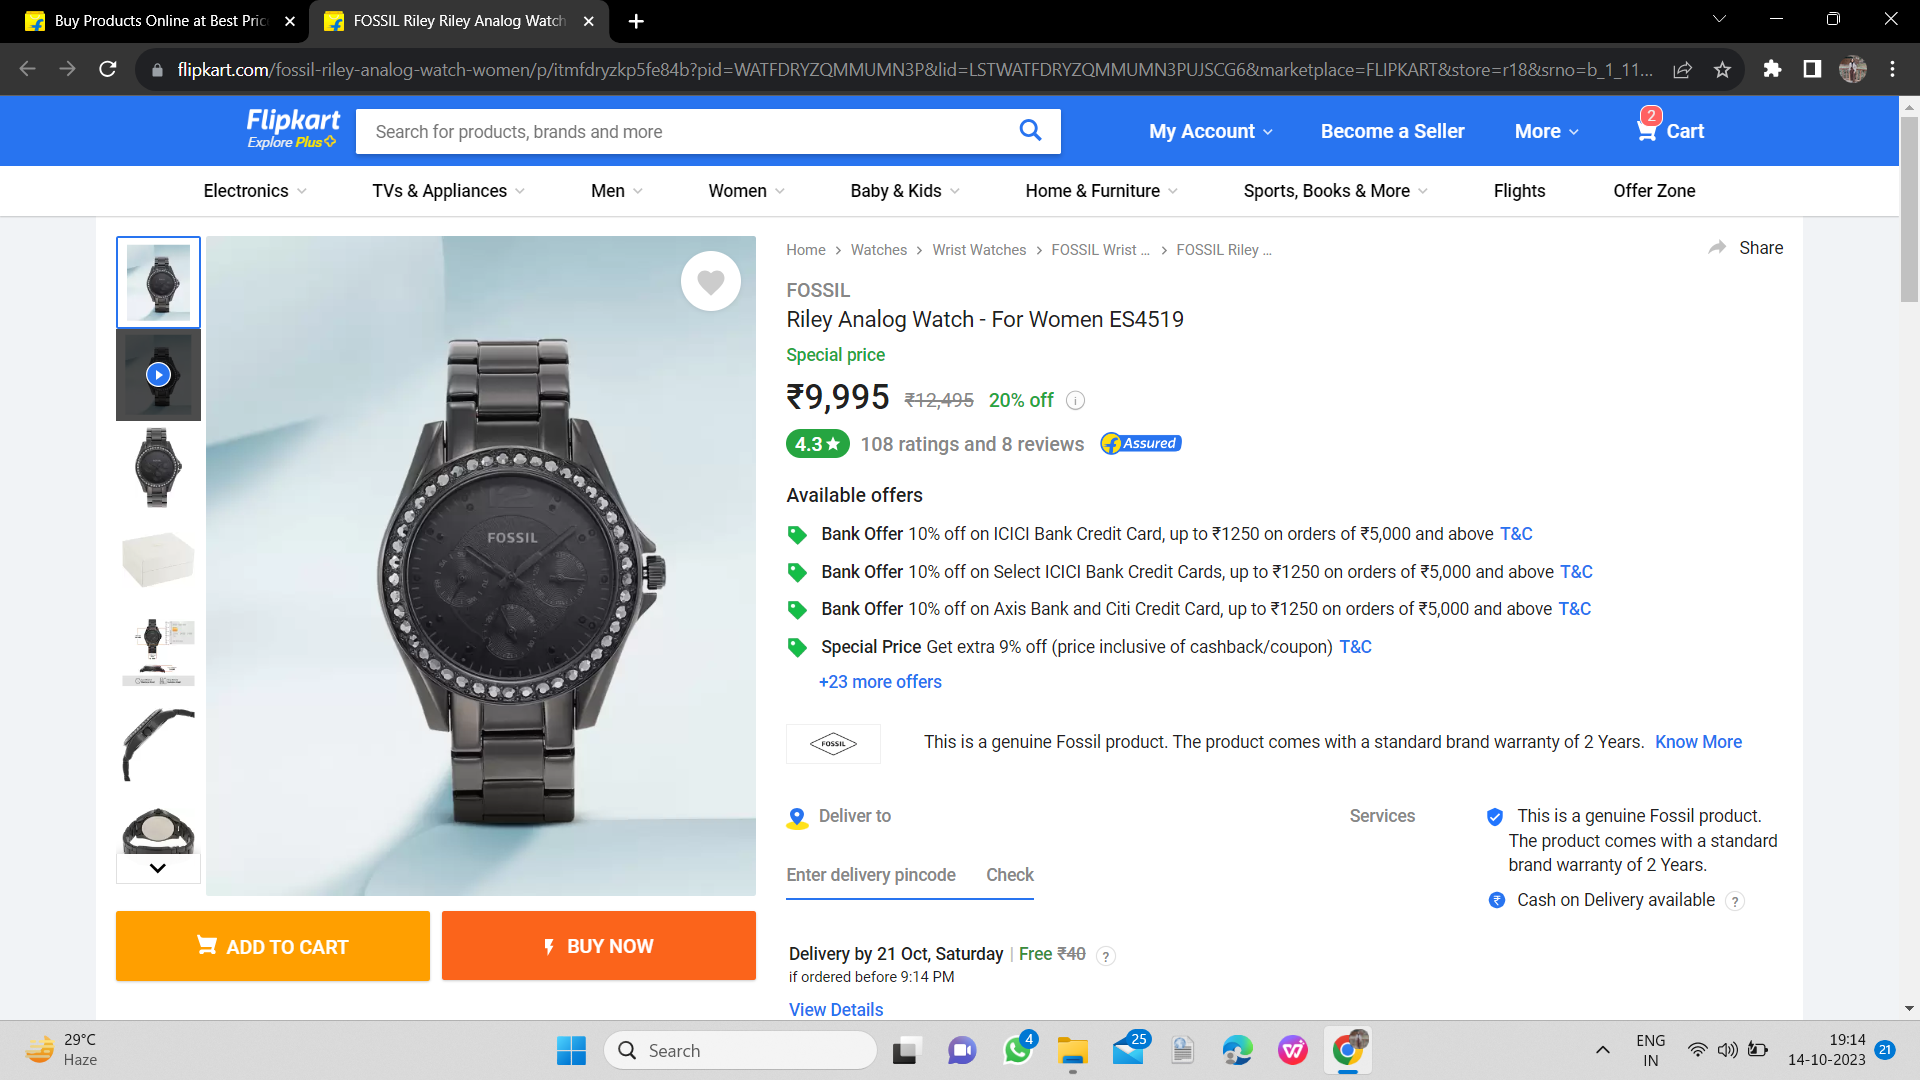Image: (207, 241, 757, 885)
Paragraph: (781, 520, 1598, 695), (1346, 798, 1792, 940), (104, 903, 766, 997), (777, 798, 1051, 910), (773, 332, 1105, 418), (1124, 102, 1717, 149), (773, 274, 1188, 339), (798, 732, 1646, 764), (773, 418, 1211, 459), (783, 940, 1017, 969), (779, 479, 930, 512)
